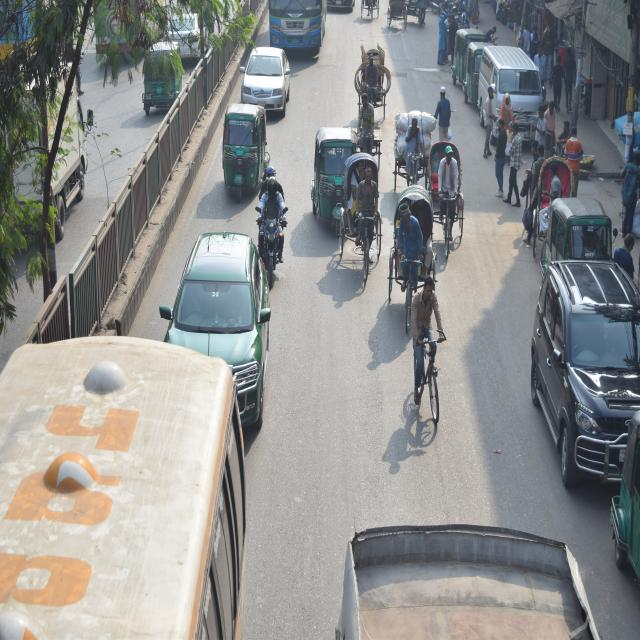bus: (0, 332, 222, 623), (264, 0, 322, 49)
car: (531, 244, 640, 481), (160, 223, 262, 436), (240, 42, 292, 110)
microbus: (476, 42, 537, 144)
motorbike: (245, 186, 292, 275)
